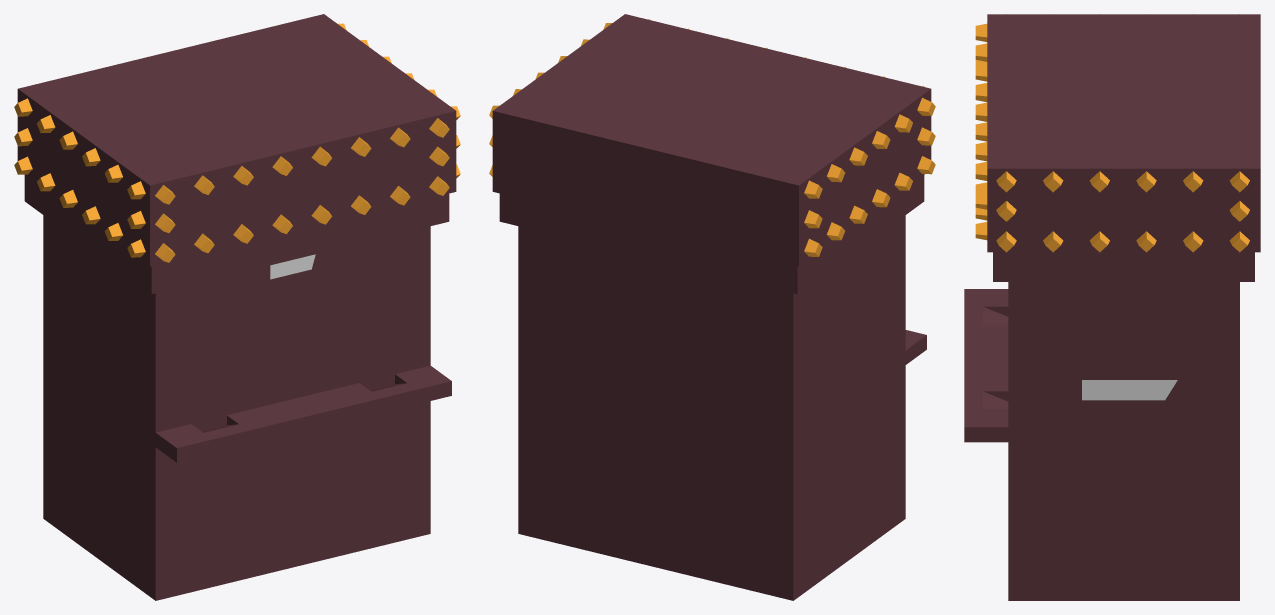
Rendered from ticket-ride-booth.fbx.
The picture shows the model from 3 angles, left to right: view 1: azimuth 30°, elevation 25°; view 2: azimuth 150°, elevation 25°; view 3: azimuth 270°, elevation 25°; orthographic projection. The views are drawn at different scales.
Parts seen in each view (by area): view 1: ticket-ride-booth; view 2: ticket-ride-booth; view 3: ticket-ride-booth.
Boxes of the visible parts, left/top/right/bottom form: ticket-ride-booth: left=14, top=14, right=460, bottom=600; ticket-ride-booth: left=489, top=14, right=935, bottom=600; ticket-ride-booth: left=964, top=14, right=1260, bottom=600.
Bounding box in the file's own units: 2.24 × 2.8 × 1.71.
